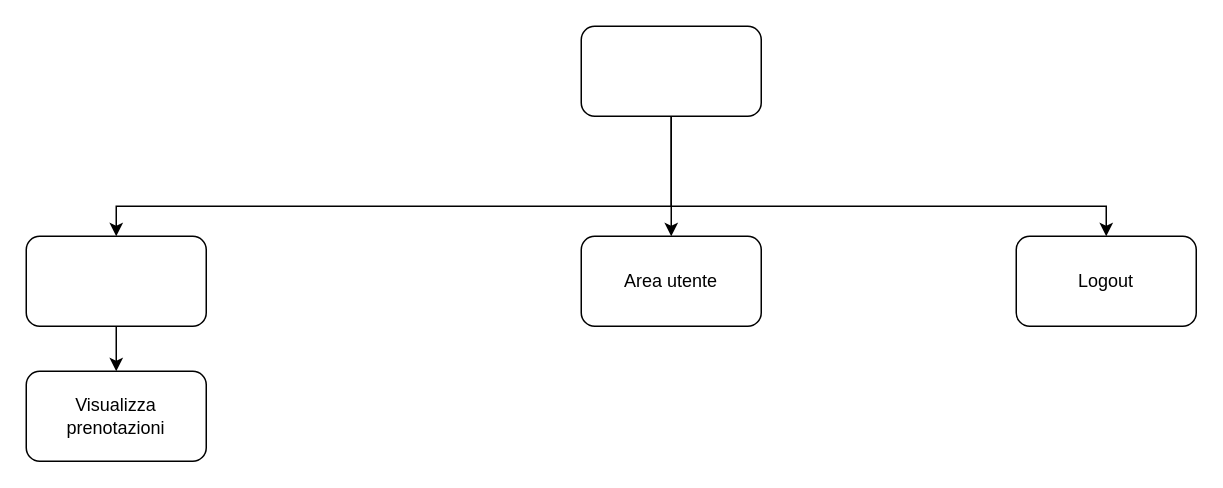
Image size: 1223x488. Some labels were removed from this diagram. The shapes that lost their labels are listed below. From the top down, each one's centre as x and y in pixels, then its label:
At point 670,70: "Homepage".
At point 115,280: "Area riservata".
